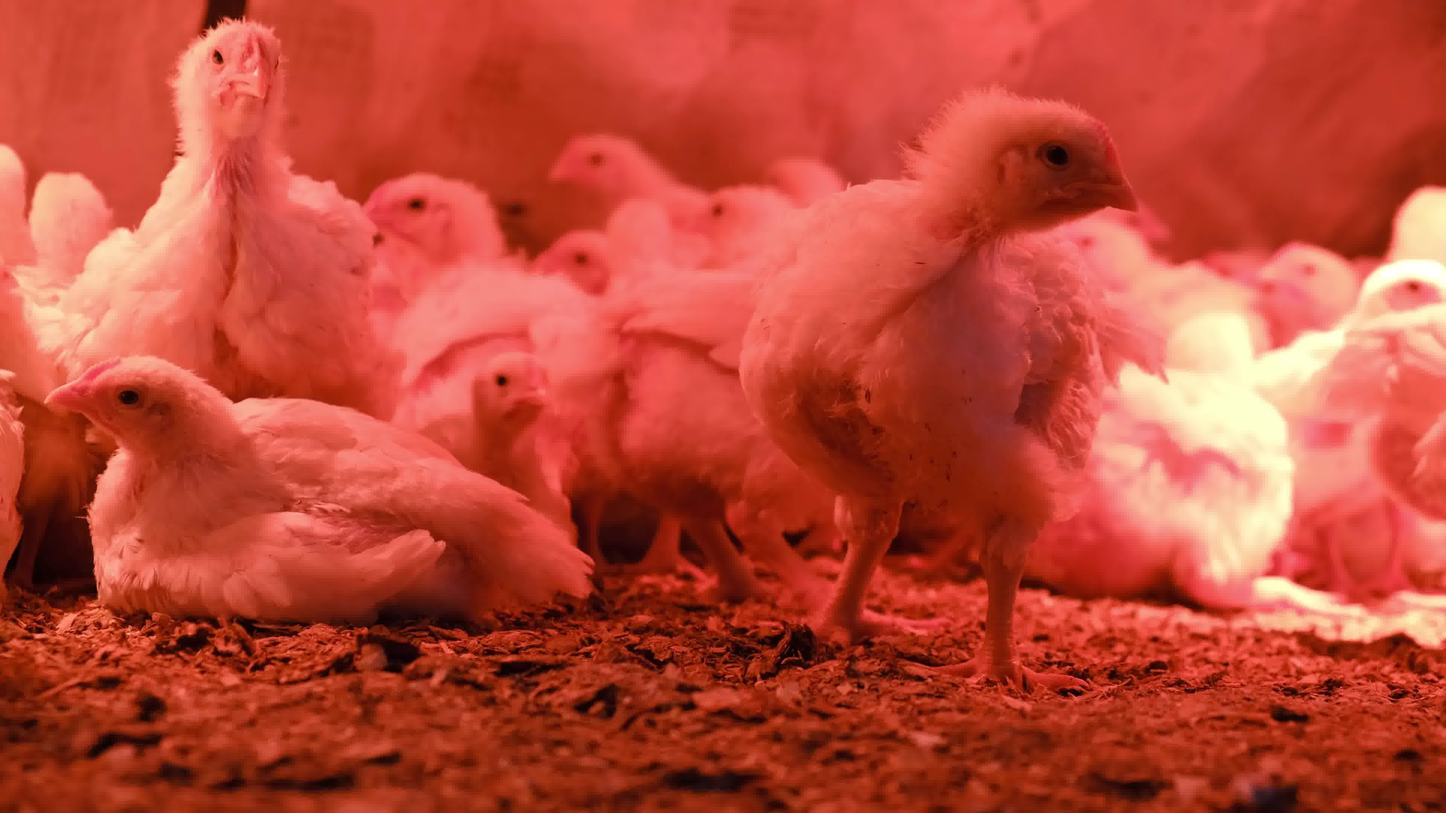AbNormal: (40, 352, 593, 611), (1001, 309, 1300, 602), (411, 358, 582, 536)
Normal: (742, 91, 1136, 685), (63, 17, 379, 417), (552, 269, 803, 625), (1278, 245, 1446, 605), (372, 177, 581, 339), (1314, 299, 1446, 527), (552, 117, 716, 243), (1060, 217, 1251, 324), (31, 172, 123, 331), (691, 177, 795, 297), (1262, 234, 1367, 346), (0, 132, 31, 363), (551, 219, 631, 295)
